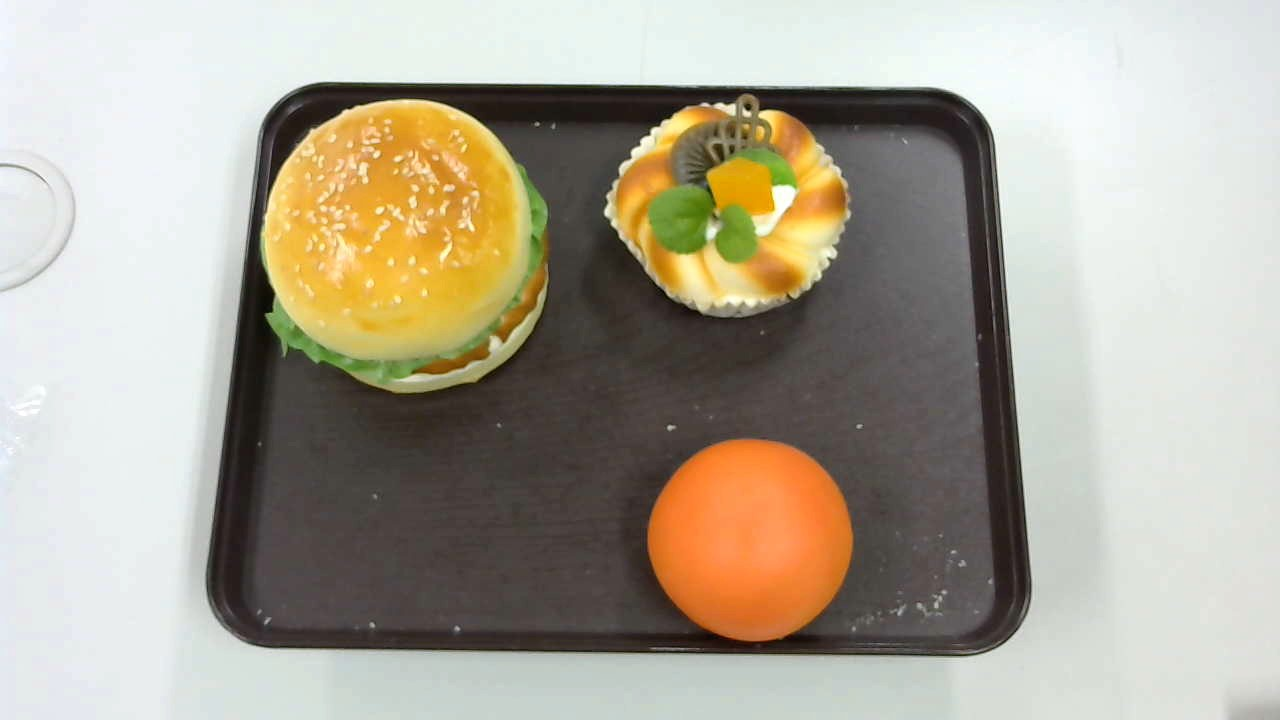bun: (645, 437, 852, 644)
fruit tart: (605, 93, 852, 319)
hamburger: (259, 97, 549, 393)
